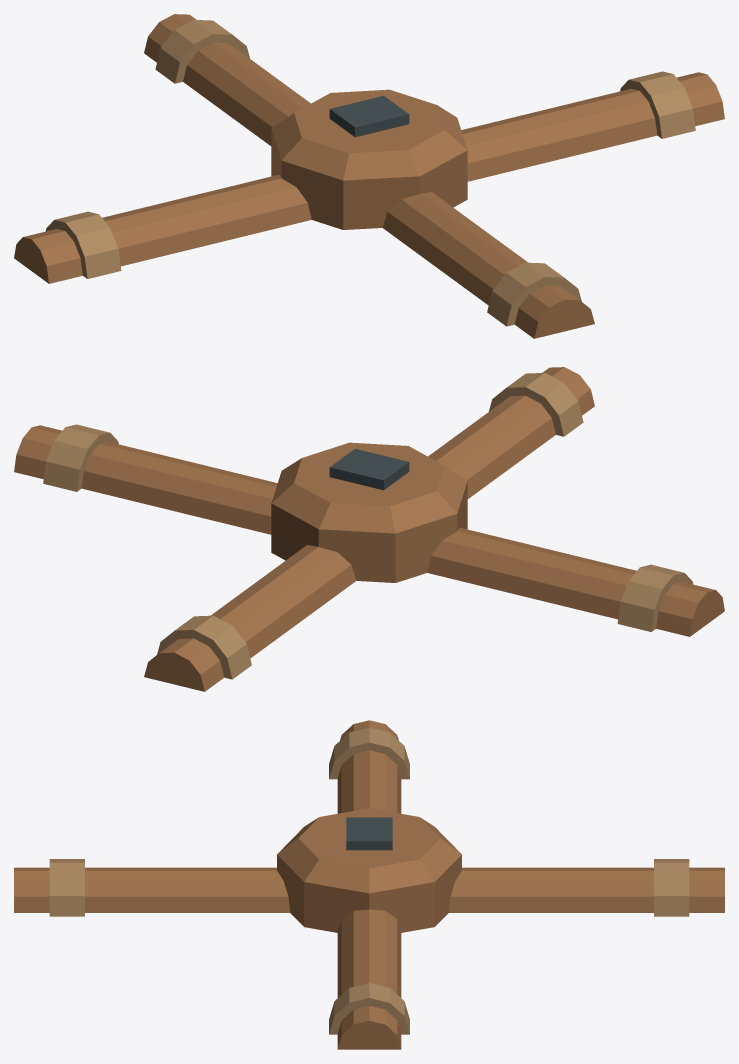
File: pipe.glb
3 renders of one model, top to bottom at view 1: azimuth 30°, elevation 25°; view 2: azimuth 150°, elevation 25°; view 3: azimuth 270°, elevation 25°, orthographic. The views are drawn at different scales.
Parts seen in each view (by area): view 1: geometry, nx, px, pz, nz; view 2: geometry, nx, px, nz, pz; view 3: geometry, nz, pz, px, nx.
Part boxes in pixels (x1,y1,x2,y2): geometry: (271,89,467,229); nx: (14,174,311,283); px: (461,71,724,181); pz: (382,192,594,338); nz: (144,14,310,145); geometry: (271,442,467,582); nx: (427,527,724,636); px: (14,424,277,534); nz: (144,545,356,691); pz: (428,367,594,498); geometry: (277,808,461,932); nz: (448,859,724,916); pz: (14,859,290,916); px: (329,909,409,1049); nx: (329,720,409,813).
Size of the model in its own units: 1 by 0.109 by 1.
